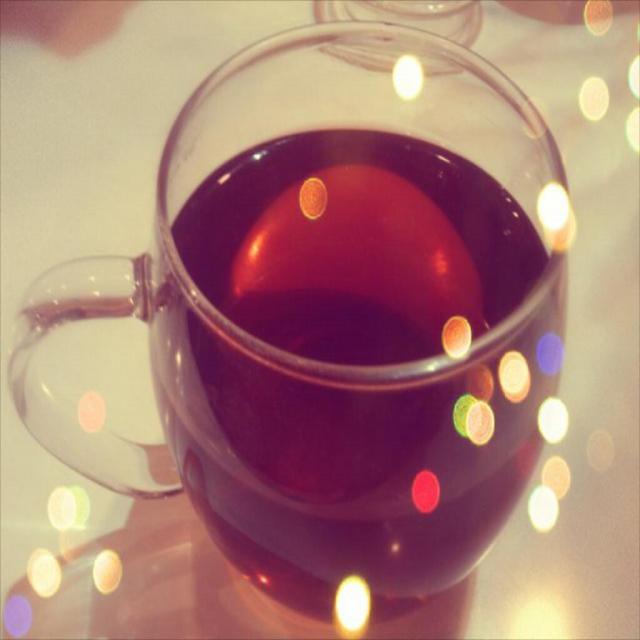Tea: (149, 127, 564, 593)
